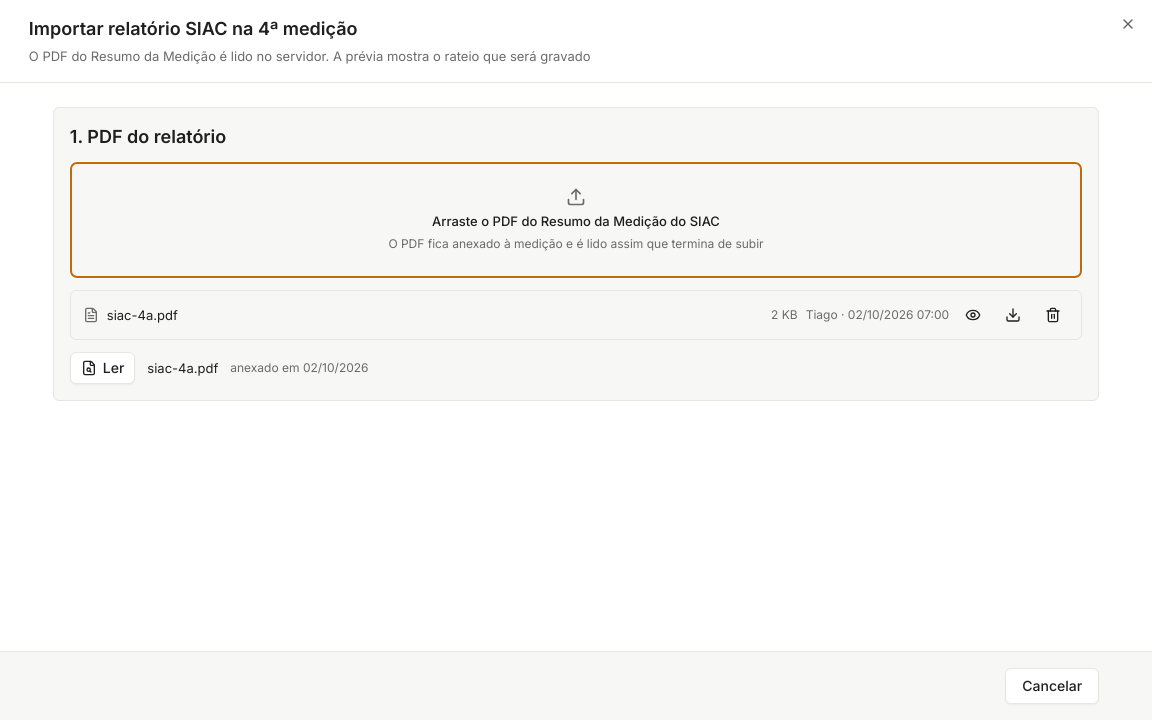
Scenario: ImportarSiacDrawer › com pendência o Gravar fica desabilitado
Click the button with aria-label "Ler siac-4a.pdf": (103, 368) [70,352,135,384]
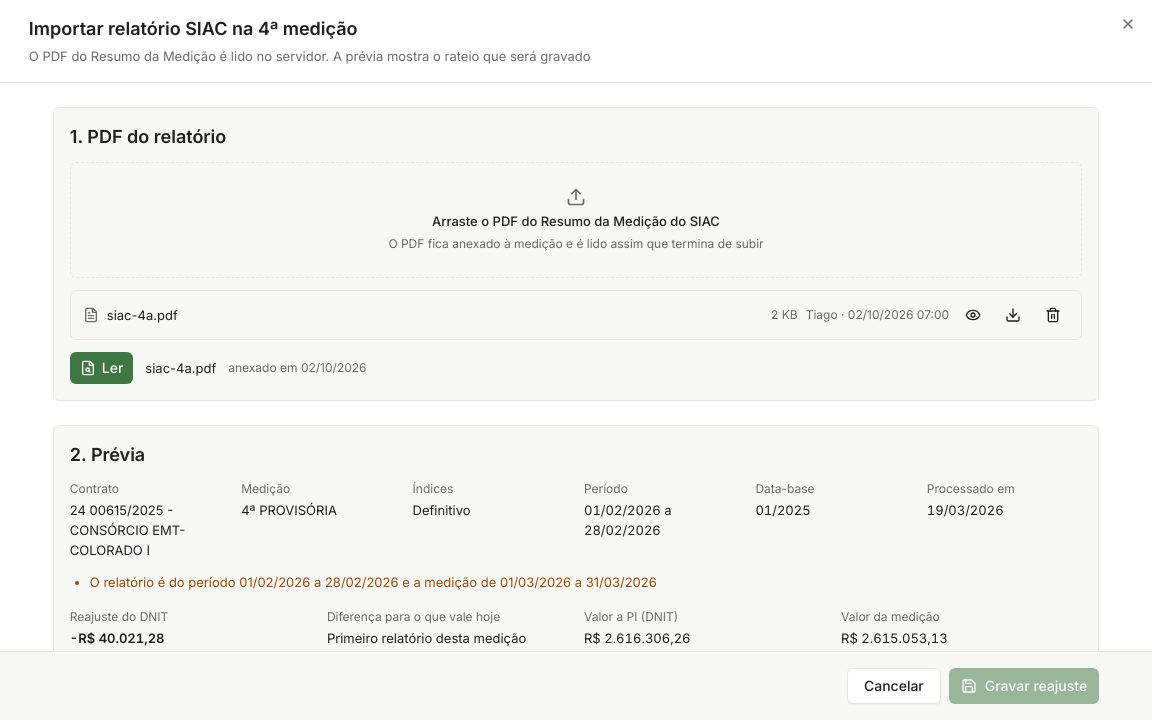
Now the button "Gravar reajuste" is disabled, box [949,668,1099,704]
